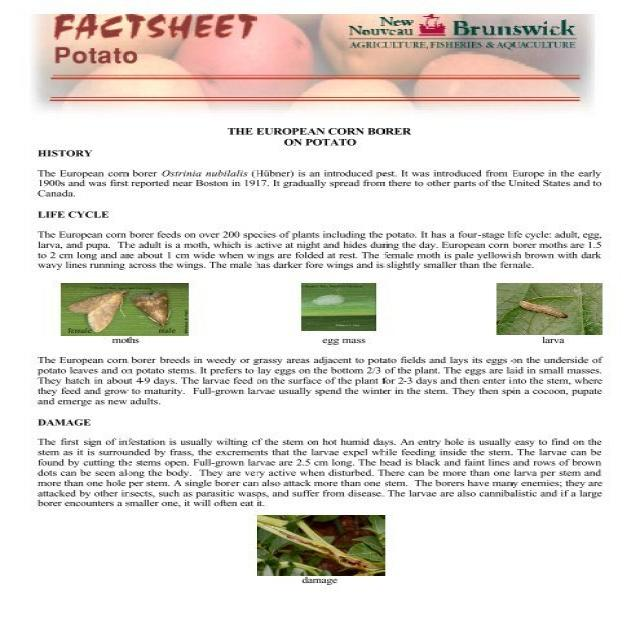cornborer-Larva-: (516, 293, 576, 322)
